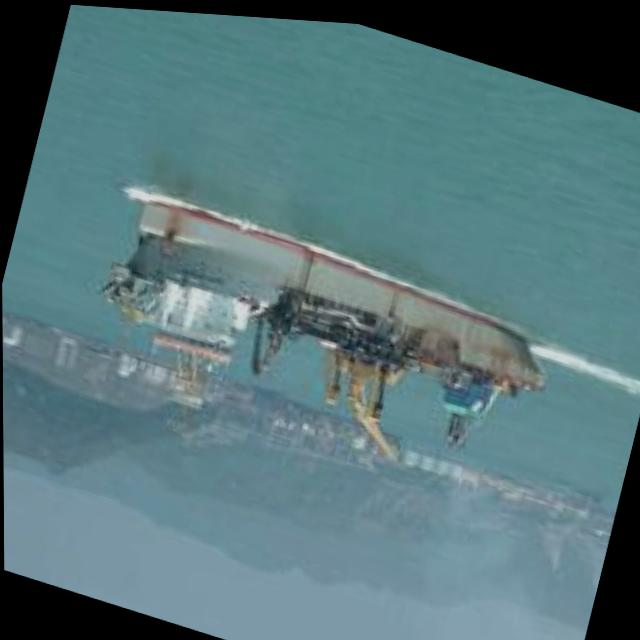ship2: (104, 199, 546, 455)
